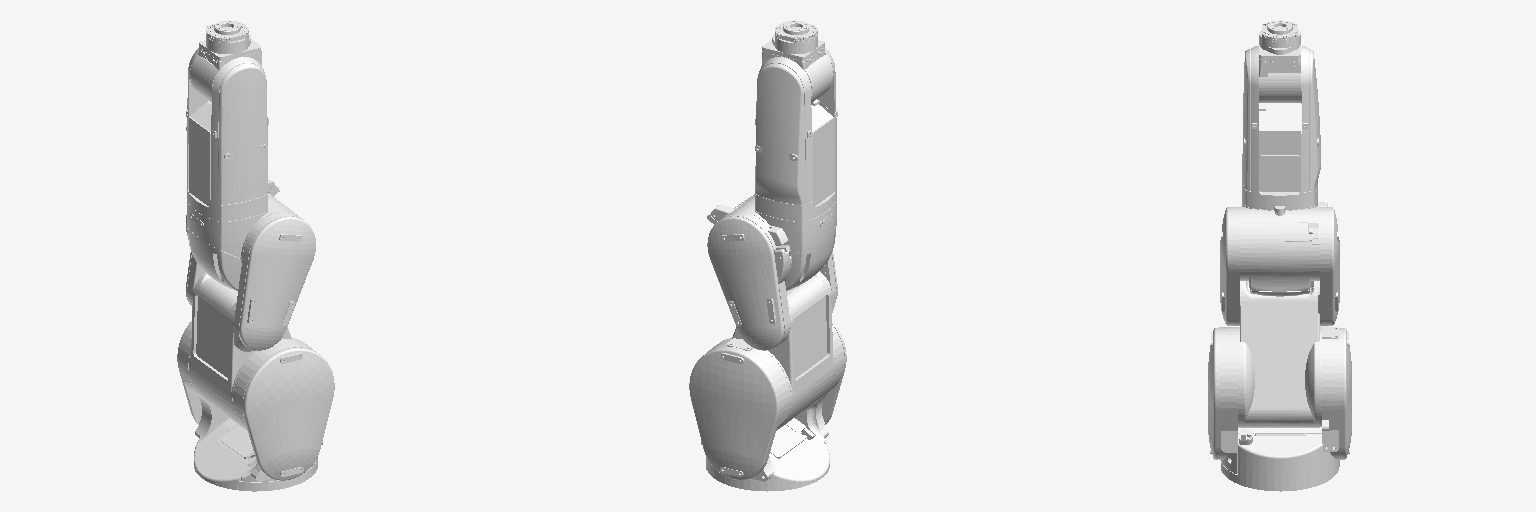
URDF robot description (rv4fr):
<?xml version="1.0" ?>
<robot name="rv4fr">
  <material name="white">
    <color rgba="1.0 1.0 1.0 1.0"/>
  </material>
  <link name="world"/>
  <link name="rv4fr_base">
    <visual>
      <material name="white"/>
      <origin rpy="0 0 0" xyz="0 0 0"/>
      <geometry>
        <mesh filename="package://melfa_description/meshes/rv4fr/base.STL"/>
      </geometry>
    </visual>
    <collision>
      <origin rpy="0 0 0" xyz="0 0 0"/>
      <geometry>
        <mesh filename="package://melfa_description/meshes/rv4fr/base.STL"/>
      </geometry>
    </collision>
  </link>
  <link name="rv4fr_shoulder">
    <visual>
      <material name="white"/>
      <origin rpy="0 0 0" xyz="0 0 0"/>
      <geometry>
        <mesh filename="package://melfa_description/meshes/rv4fr/shoulder.STL"/>
      </geometry>
    </visual>
    <collision>
      <origin rpy="0 0 0" xyz="0 0 0"/>
      <geometry>
        <mesh filename="package://melfa_description/meshes/rv4fr/shoulder.STL"/>
      </geometry>
    </collision>
  </link>
  <link name="rv4fr_upper_arm">
    <visual>
      <material name="white"/>
      <origin rpy="0 0 0" xyz="0 0 0"/>
      <geometry>
        <mesh filename="package://melfa_description/meshes/rv4fr/upper_arm.STL"/>
      </geometry>
    </visual>
    <collision>
      <origin rpy="0 0 0" xyz="0 0 0"/>
      <geometry>
        <mesh filename="package://melfa_description/meshes/rv4fr/upper_arm.STL"/>
      </geometry>
    </collision>
  </link>
  <link name="rv4fr_elbow">
    <visual>
      <material name="white"/>
      <origin rpy="0 0 0" xyz="0 0 0"/>
      <geometry>
        <mesh filename="package://melfa_description/meshes/rv4fr/elbow.STL"/>
      </geometry>
    </visual>
    <collision>
      <origin rpy="0 0 0" xyz="0 0 0"/>
      <geometry>
        <mesh filename="package://melfa_description/meshes/rv4fr/elbow.STL"/>
      </geometry>
    </collision>
  </link>
  <link name="rv4fr_forearm">
    <visual>
      <material name="white"/>
      <origin rpy="0 0 0" xyz="0 0 0"/>
      <geometry>
        <mesh filename="package://melfa_description/meshes/rv4fr/forearm.STL"/>
      </geometry>
    </visual>
    <collision>
      <origin rpy="0 0 0" xyz="0 0 0"/>
      <geometry>
        <mesh filename="package://melfa_description/meshes/rv4fr/forearm.STL"/>
      </geometry>
    </collision>
  </link>
  <link name="rv4fr_wrist">
    <visual>
      <material name="white"/>
      <origin rpy="0 0 0" xyz="0 0 0"/>
      <geometry>
        <mesh filename="package://melfa_description/meshes/rv4fr/wrist.STL"/>
      </geometry>
    </visual>
    <collision>
      <origin rpy="0 0 0" xyz="0 0 0"/>
      <geometry>
        <mesh filename="package://melfa_description/meshes/rv4fr/wrist.STL"/>
      </geometry>
    </collision>
  </link>
  <link name="rv4fr_hand_flange">
    <visual>
      <material name="white"/>
      <origin rpy="0 0 0" xyz="0 0 0"/>
      <geometry>
        <mesh filename="package://melfa_description/meshes/rv4fr/hand_flange.STL"/>
      </geometry>
    </visual>
    <collision>
      <origin rpy="0 0 0" xyz="0 0 0"/>
      <geometry>
        <mesh filename="package://melfa_description/meshes/rv4fr/hand_flange.STL"/>
      </geometry>
    </collision>
  </link>
  <link name="rv4fr_default_tcp"/>
  <joint name="rv4fr_world_to_base" type="fixed">
    <origin rpy="0 0 0" xyz="0.0 0.0 0.0"/>
    <parent link="world"/>
    <child link="rv4fr_base"/>
  </joint>
  <joint name="rv4fr_joint_1" type="revolute">
    <origin rpy="0 0 0" xyz="0.0 0.0 0.0"/>
    <parent link="rv4fr_base"/>
    <child link="rv4fr_shoulder"/>
    <axis xyz="0 0 1"/>
    <limit effort="1" lower="-4.1887902047863905" upper="4.1887902047863905" velocity="7.853981633974483"/>
  </joint>
  <joint name="rv4fr_joint_2" type="revolute">
    <origin rpy="0 0 0" xyz="0.0 0.0 0.35"/>
    <parent link="rv4fr_shoulder"/>
    <child link="rv4fr_upper_arm"/>
    <axis xyz="0 1 0"/>
    <limit effort="1" lower="-2.0943951023931953" upper="2.0943951023931953" velocity="7.853981633974483"/>
  </joint>
  <joint name="rv4fr_joint_3" type="revolute">
    <origin rpy="0 0 0" xyz="0.0 0.0 0.235"/>
    <parent link="rv4fr_upper_arm"/>
    <child link="rv4fr_elbow"/>
    <axis xyz="0 1 0"/>
    <limit effort="1" lower="0.0" upper="2.8099800957108703" velocity="5.235987755982989"/>
  </joint>
  <joint name="rv4fr_joint_4" type="revolute">
    <origin rpy="0 0 0" xyz="-0.05 0.0 0.0"/>
    <parent link="rv4fr_elbow"/>
    <child link="rv4fr_forearm"/>
    <axis xyz="0 0 1"/>
    <limit effort="1" lower="-3.490658503988659" upper="3.490658503988659" velocity="9.42477796076938"/>
  </joint>
  <joint name="rv4fr_joint_5" type="revolute">
    <origin rpy="0 0 0" xyz="0.0 0.0 0.275"/>
    <parent link="rv4fr_forearm"/>
    <child link="rv4fr_wrist"/>
    <axis xyz="0 1 0"/>
    <limit effort="1" lower="-2.0943951023931953" upper="2.0943951023931953" velocity="10.873401239924673"/>
  </joint>
  <joint name="rv4fr_joint_6" type="revolute">
    <origin rpy="0 0 0" xyz="0.0 0.0 0.085"/>
    <parent link="rv4fr_wrist"/>
    <child link="rv4fr_hand_flange"/>
    <axis xyz="0 0 1"/>
    <limit effort="1" lower="-6.283185307179586" upper="6.283185307179586" velocity="12.566370614359172"/>
  </joint>
  <joint name="rv4fr_hand_tcp" type="fixed">
    <origin rpy="0 0 0" xyz="0.0 0.0 0.0"/>
    <parent link="rv4fr_hand_flange"/>
    <child link="rv4fr_default_tcp"/>
  </joint>
</robot>

--- Facts derived from the render (not from the file) ---
Views: 3 orthographic renders of the robot side by side, from view 1: azimuth 30°, elevation 25°; view 2: azimuth 150°, elevation 25°; view 3: azimuth 270°, elevation 25°.
Model rv4fr with 9 links and 8 joints (6 revolute, 2 fixed), rooted at world, posed every joint at zero.
Links seen in each view (by area): view 1: rv4fr_shoulder, rv4fr_upper_arm, rv4fr_forearm, rv4fr_elbow, rv4fr_wrist; view 2: rv4fr_shoulder, rv4fr_upper_arm, rv4fr_forearm, rv4fr_elbow, rv4fr_wrist; view 3: rv4fr_upper_arm, rv4fr_shoulder, rv4fr_forearm, rv4fr_elbow, rv4fr_wrist.
Boxes of the visible links, x1,y1,x2,y2 form: rv4fr_shoulder: (177, 321, 334, 491); rv4fr_upper_arm: (186, 212, 315, 426); rv4fr_forearm: (186, 48, 268, 221); rv4fr_elbow: (187, 179, 297, 290); rv4fr_wrist: (190, 21, 263, 102); rv4fr_shoulder: (689, 321, 846, 491); rv4fr_upper_arm: (707, 212, 837, 428); rv4fr_forearm: (755, 48, 837, 221); rv4fr_elbow: (707, 194, 836, 290); rv4fr_wrist: (761, 21, 833, 102); rv4fr_upper_arm: (1220, 207, 1339, 427); rv4fr_shoulder: (1208, 326, 1351, 491); rv4fr_forearm: (1242, 46, 1320, 213); rv4fr_elbow: (1240, 198, 1327, 296); rv4fr_wrist: (1259, 21, 1300, 102).
Size in the robot's own frame: 0.1999 by 0.23 by 0.7515 metres.
6 mesh visuals loaded from 7 distinct referenced files (6 binary STL); not drawn: 1 (reference not matched to a file when rendering).